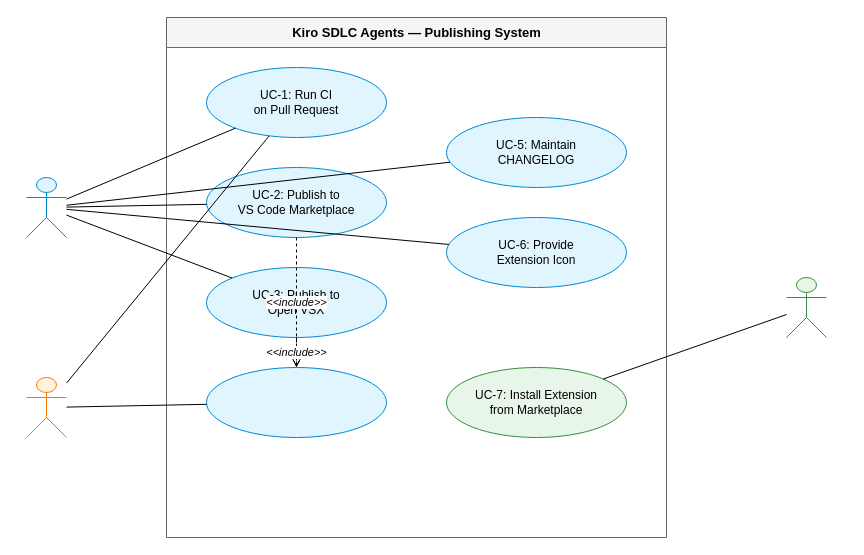
The diagram is 864 pixels wide and 555 high, and some of its shapes have lost their labels. The shapes that lost their labels are listed below. From the top down, each one's centre as x and y in pixels, then its label:
At [46,207]: "Developer/ Maintainer".
At [806,307]: "End User (VS Code/Kiro)".
At [46,407]: "GitHub Actions".
At [296,402]: "UC-4: Create GitHub Release".
